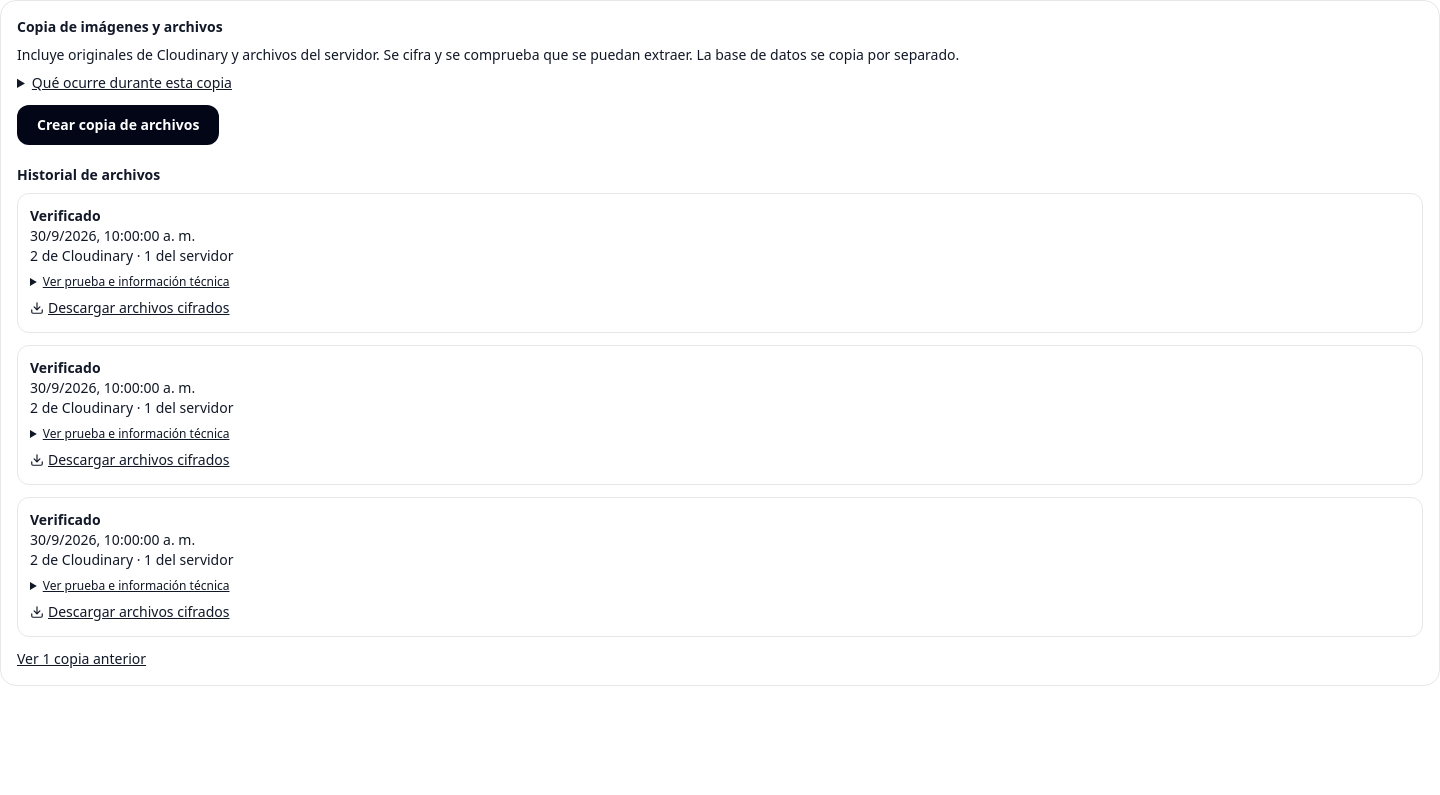
Test case: copia de imágenes y archivos › resume el historial de archivos y muestra los detalles solo al solicitarlos
Expected: the number of headings "Ver prueba e información técnica" is 3, [43, 273, 230, 290]; [43, 425, 230, 442]; [43, 577, 230, 594]
Click the button "Ver 1 copia anterior".
click(82, 659)  # box [17, 649, 146, 669]
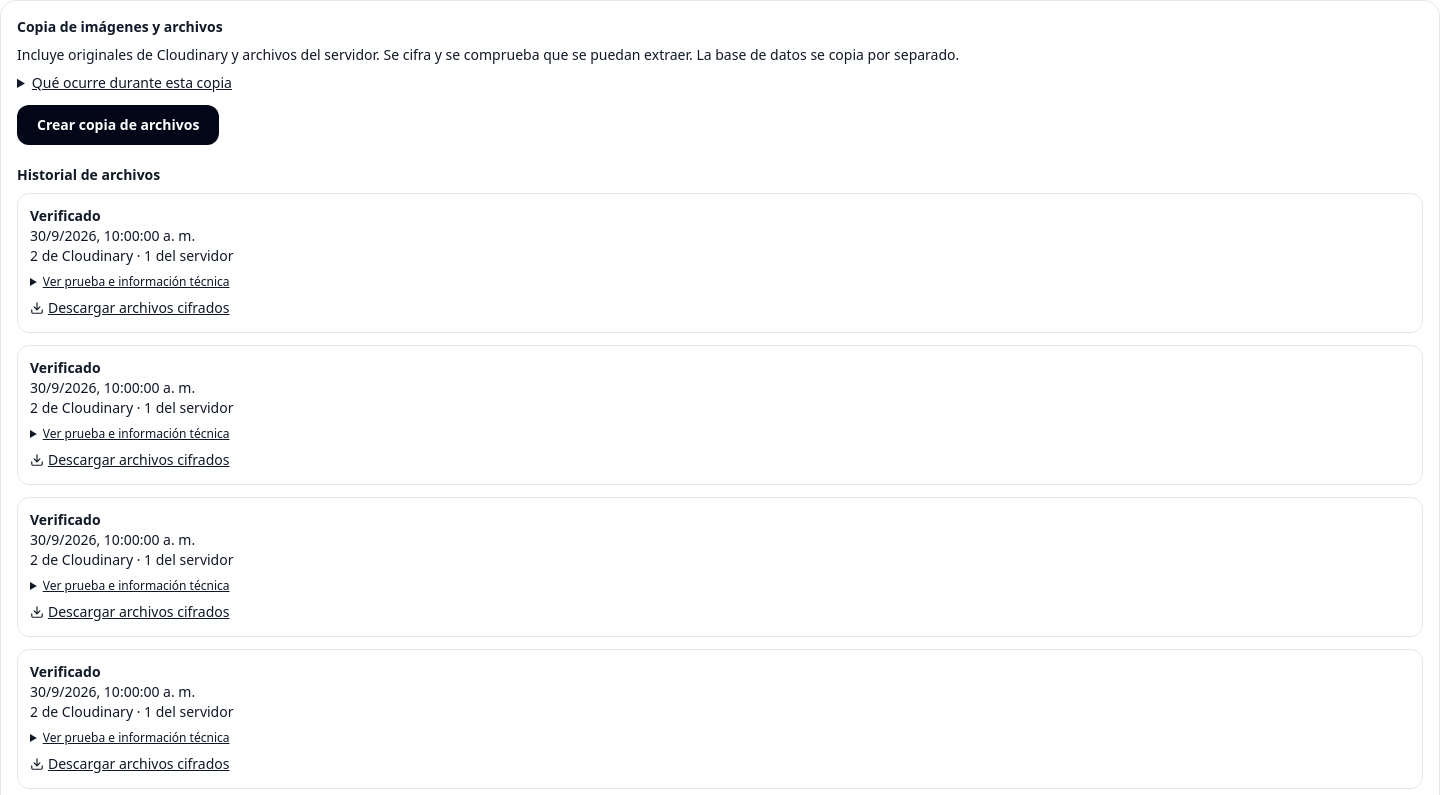
Result: the number of headings "Ver prueba e información técnica" is 4
Click the 1st heading "Ver prueba e información técnica".
click(136, 282)  # box [43, 273, 230, 290]
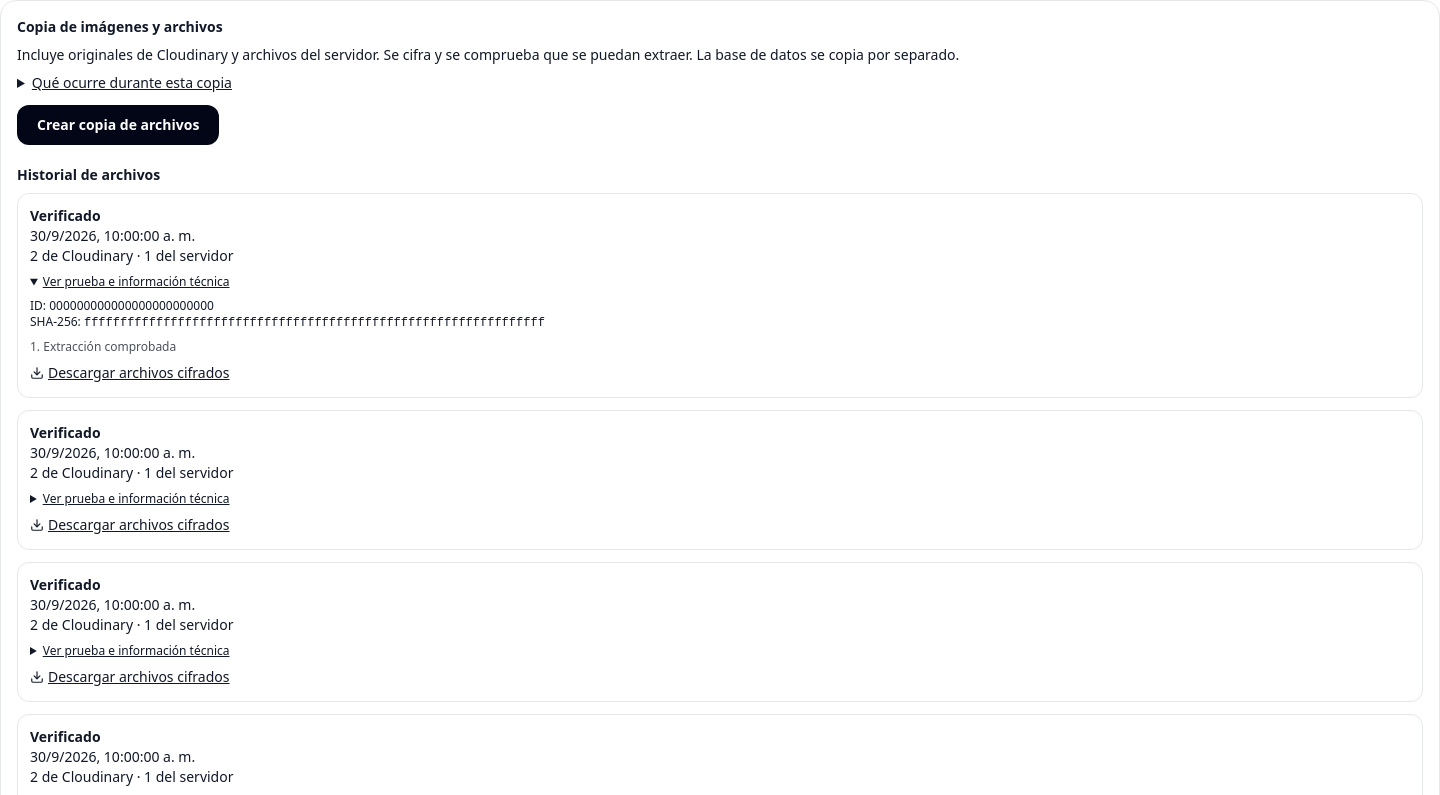
Result: the text "Ver prueba e información técnica" shows "Extracción comprobada" at [43, 338, 176, 355]
